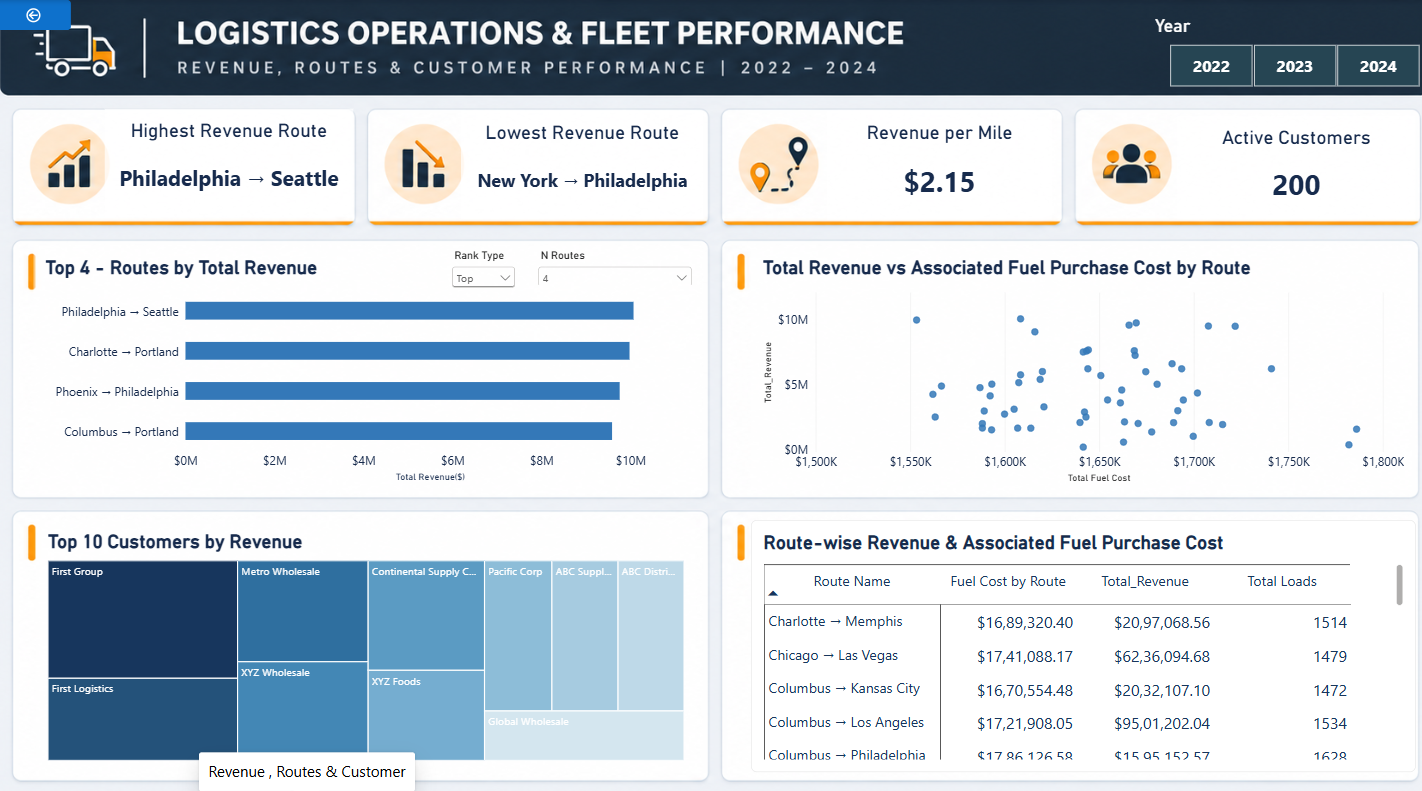

Layout of this report page (visuals, bound fields, positions):
{"tool":"powerbi","page":{"name":"Revenue , Routes & Customer  ","canvas":[1920,1080],"ordinal":1},"visuals":[{"type":"card","title":"Revenue per Mile","fields":{"Values":["aMeasures.Revenue per Mile"]},"box":[1110,148.2,300,144.5],"z":0},{"type":"clusteredBarChart","fields":{"Category":["Dim_Route.Route Name"],"Y":["aMeasures.Total_Revenue"]},"box":[50,329.2,893.9,330.6],"z":1000},{"type":"slicer","fields":{"Values":["N Routes.N Routes"]},"box":[720.4,332.7,214.5,48.2],"z":2000},{"type":"slicer","fields":{"Values":["Route Rank Type.Rank Type"]},"box":[604.1,332.7,93.9,63.3],"z":3000},{"type":"card","title":"Highest Revenue Route","fields":{"Values":["aMeasures.Highest Revenue Route"]},"box":[144.9,144.9,331.8,144.5],"z":4000},{"type":"card","title":"Lowest Revenue Route","fields":{"Values":["aMeasures.Lowest Revenue Route"]},"box":[621.4,148.6,324.3,144.3],"z":5000},{"type":"actionButton","box":[0,0,100,40],"z":6000},{"type":"card","title":"Active Customers","fields":{"Values":["aMeasures.Active Customers"]},"box":[1578.2,155.5,318.2,137.3],"z":7000},{"type":"treemap","title":"Top 10 Customers by Revenue","fields":{"Group":["Dim_Customer.customer_name"],"Values":["aMeasures.Total_Revenue"]},"box":[53.1,693.9,881.6,336.7],"z":8000},{"type":"slicer","title":"Year","fields":{"Values":["Dim_Date.Year Hierarchy.Year"]},"box":[1547.5,20,372.5,97.5],"z":10000},{"type":"pivotTable","title":"Route-wise Revenue & Associated Fuel Purchase Cost","fields":{"Rows":["Dim_Route.Route Name"],"Values":["aMeasures.Fuel Cost by Route","aMeasures.Total_Revenue","aMeasures.Total Loads"]},"box":[1008,694,888,337],"z":11000},{"type":"scatterChart","title":"Total Revenue vs Associated Fuel Purchase Cost by Route","fields":{"Category":["Dim_Route.Route Name"],"X":["aMeasures.Total Fuel Cost"],"Y":["aMeasures.Total_Revenue"]},"box":[1008,329,888,331],"z":11001},{"type":"actionButton","box":[0,0,100,40],"z":11002}]}

Visuals, with their boxes on the page's 1920x1080 design canvas (x1, y1, x2, y2). These are canvas units, not pixel positions in the 1422x791 screenshot, which may show the page scaled, cropped or inside an application window:
"Revenue per Mile" card: [x1=1110, y1=148, x2=1410, y2=293]
clusteredBarChart - Dim_Route.Route Name x aMeasures.Total_Revenue: [x1=50, y1=329, x2=944, y2=660]
slicer - N Routes.N Routes: [x1=720, y1=333, x2=935, y2=381]
slicer - Route Rank Type.Rank Type: [x1=604, y1=333, x2=698, y2=396]
"Highest Revenue Route" card: [x1=145, y1=145, x2=477, y2=289]
"Lowest Revenue Route" card: [x1=621, y1=149, x2=946, y2=293]
actionButton: [x1=0, y1=0, x2=100, y2=40]
"Active Customers" card: [x1=1578, y1=156, x2=1896, y2=293]
"Top 10 Customers by Revenue" treemap: [x1=53, y1=694, x2=935, y2=1031]
"Year" slicer: [x1=1548, y1=20, x2=1920, y2=118]
"Route-wise Revenue & Associated Fuel Purchase Cost" pivotTable: [x1=1008, y1=694, x2=1896, y2=1031]
"Total Revenue vs Associated Fuel Purchase Cost by Route" scatterChart: [x1=1008, y1=329, x2=1896, y2=660]
actionButton: [x1=0, y1=0, x2=100, y2=40]
